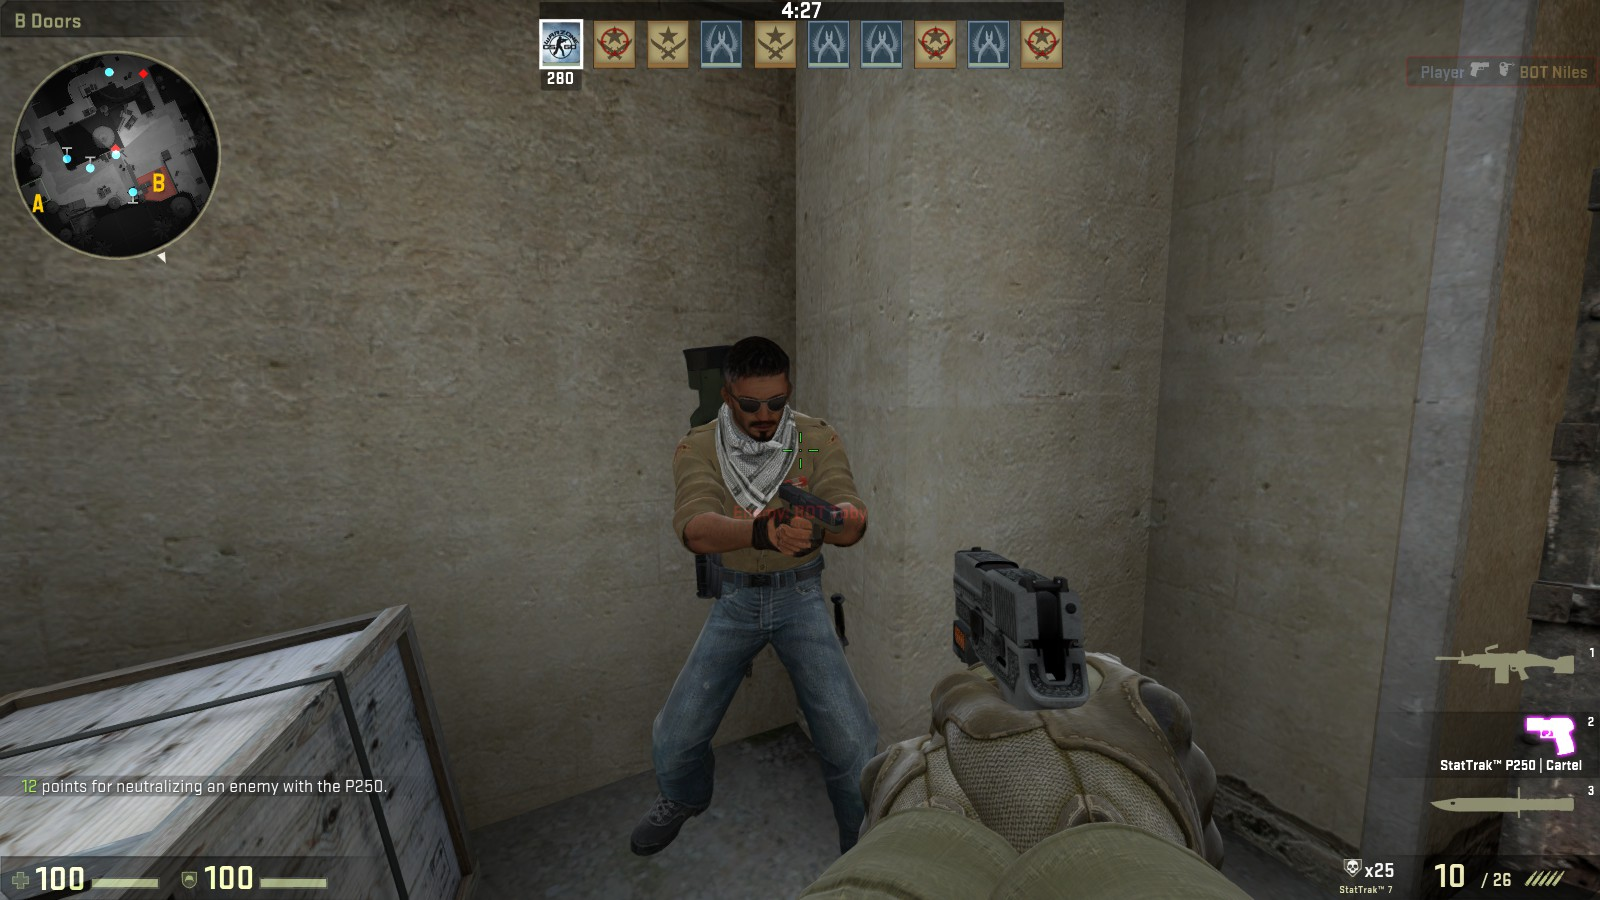t: (649, 330, 895, 855)
th: (708, 336, 804, 448)
